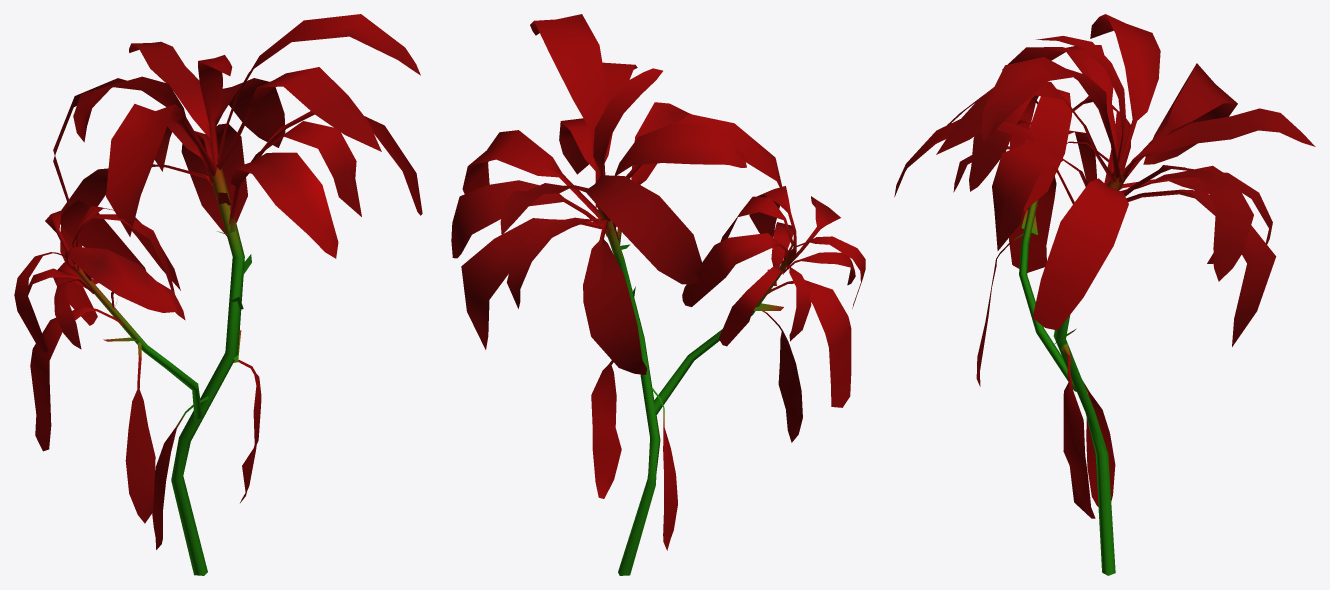
The model's file is Var5_LOD1.fbx.
3 renders of one model, left to right at view 1: azimuth 30°, elevation 25°; view 2: azimuth 150°, elevation 25°; view 3: azimuth 270°, elevation 25°, orthographic. The views are drawn at different scales.
Visible parts, largest first — view 1: _3a09_Var5_LOD1; view 2: _3a09_Var5_LOD1; view 3: _3a09_Var5_LOD1.
Part boxes in pixels (x1=…): _3a09_Var5_LOD1: x1=14, y1=14, x2=422, y2=575; _3a09_Var5_LOD1: x1=451, y1=14, x2=865, y2=575; _3a09_Var5_LOD1: x1=894, y1=14, x2=1315, y2=575.
Size of the model in its own units: 47.38 by 60.28 by 41.48.
